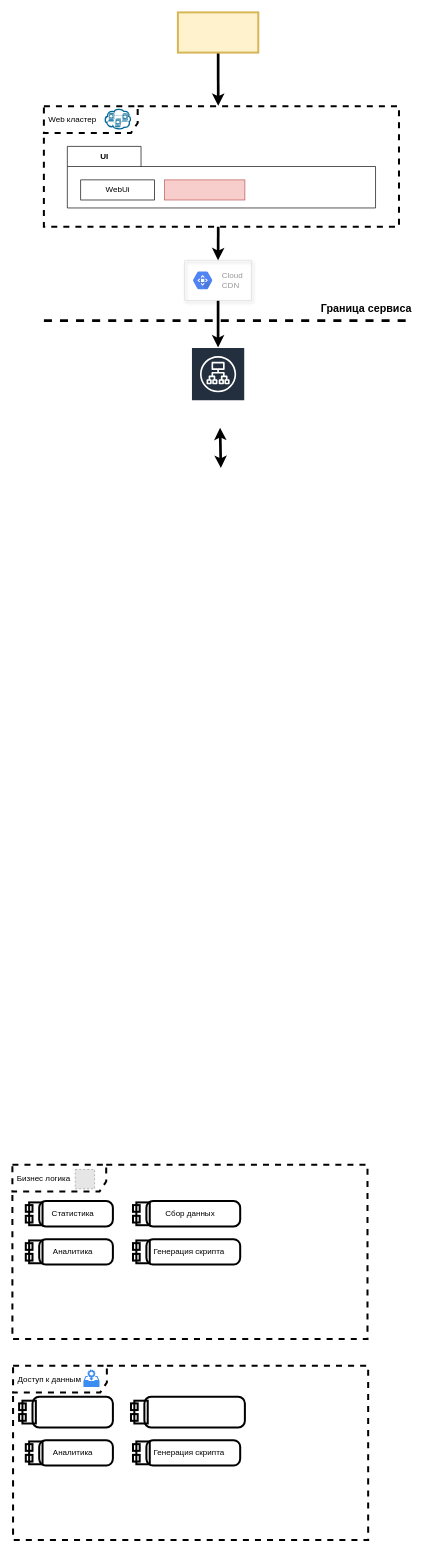
This 423x1552 diagram has some shape labels left out. Grey dashed boxes stand in for pictures. Each missing label, with the centre of its shape:
Application Load Balancer: point 218,384
DNS: point 218,32
Доступ к БД: point 66,1411
Мобильный клиент: point 204,189
Экспорт и импорт данных: point 188,1411
